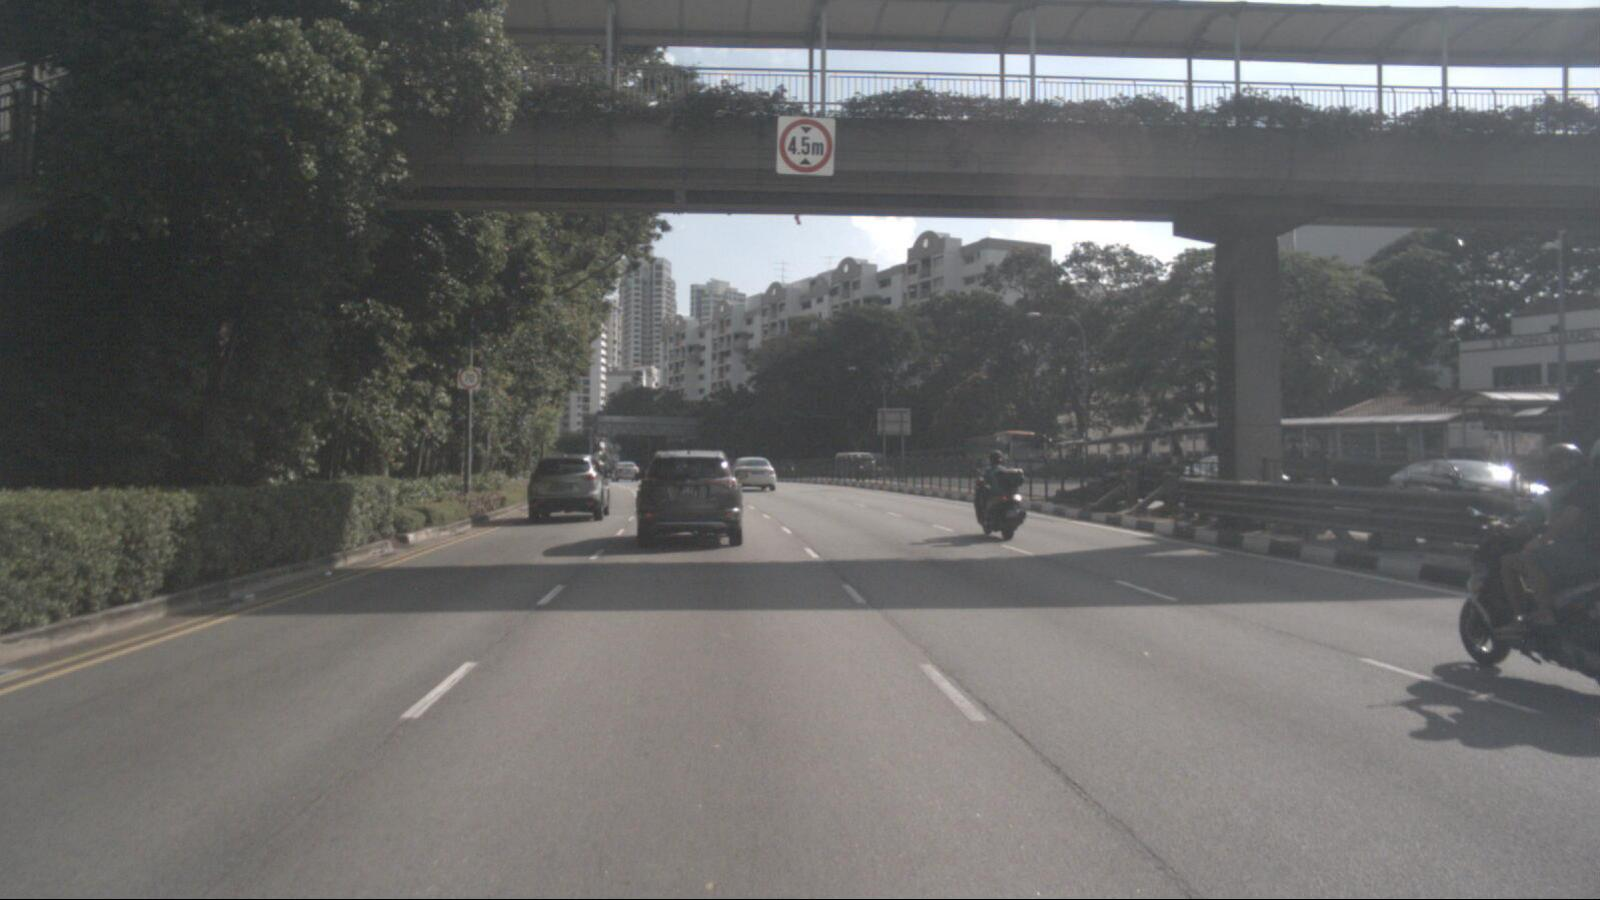human.pedestrian.adult-pedestrian.moving: (1286, 438, 1298, 470), (1311, 435, 1321, 470)
vehicle.motorcycle-cycle.with_rider: (1458, 442, 1600, 687), (972, 450, 1026, 541)
